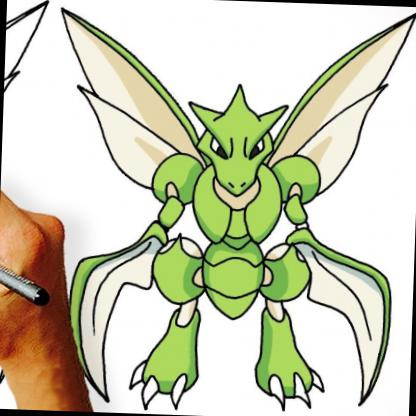Scyther: (1, 1, 416, 407)
